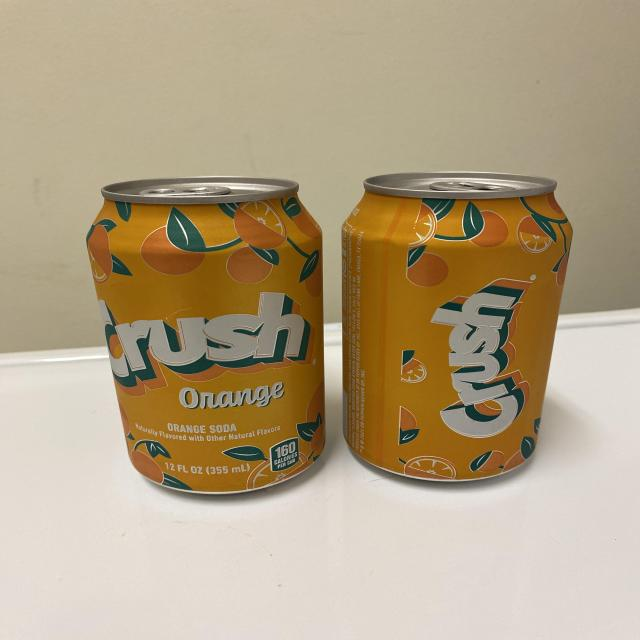can: (90, 176, 332, 496), (340, 169, 578, 487)
